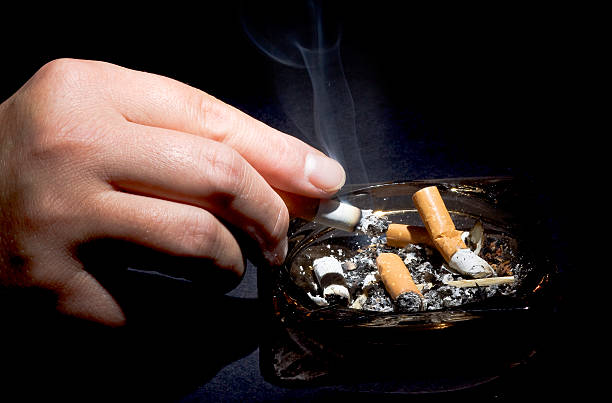cigarette: (411, 185, 497, 280), (269, 185, 391, 237), (384, 222, 484, 255), (375, 252, 424, 314)
